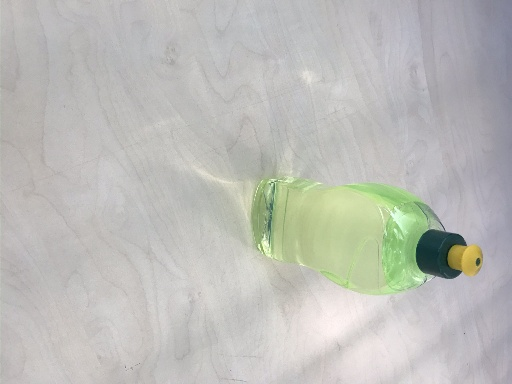Sapone: (249, 174, 486, 300)
